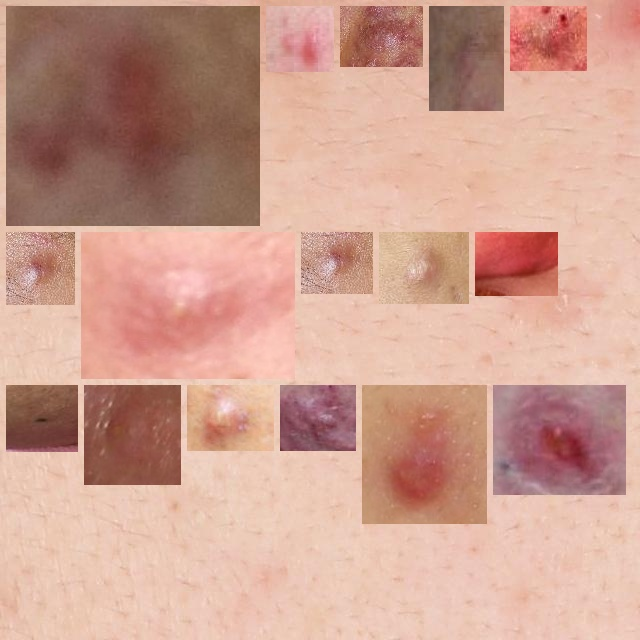nodule: (14, 14, 252, 218), (89, 240, 287, 371), (370, 393, 479, 516), (501, 393, 618, 487), (92, 393, 173, 477), (437, 14, 496, 103), (387, 240, 461, 296), (195, 393, 266, 443), (483, 240, 550, 288), (14, 240, 67, 297), (348, 14, 415, 59), (288, 393, 348, 443), (518, 14, 579, 63), (14, 393, 70, 444), (274, 14, 326, 64), (309, 240, 365, 286)
